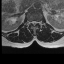CCS_normal: (33, 19, 35, 27)
LFS_stenosis: (37, 19, 39, 25)
LLS_normal: (35, 19, 37, 26)
RFS_normal: (29, 19, 31, 25)
RLS_normal: (31, 19, 33, 26)
